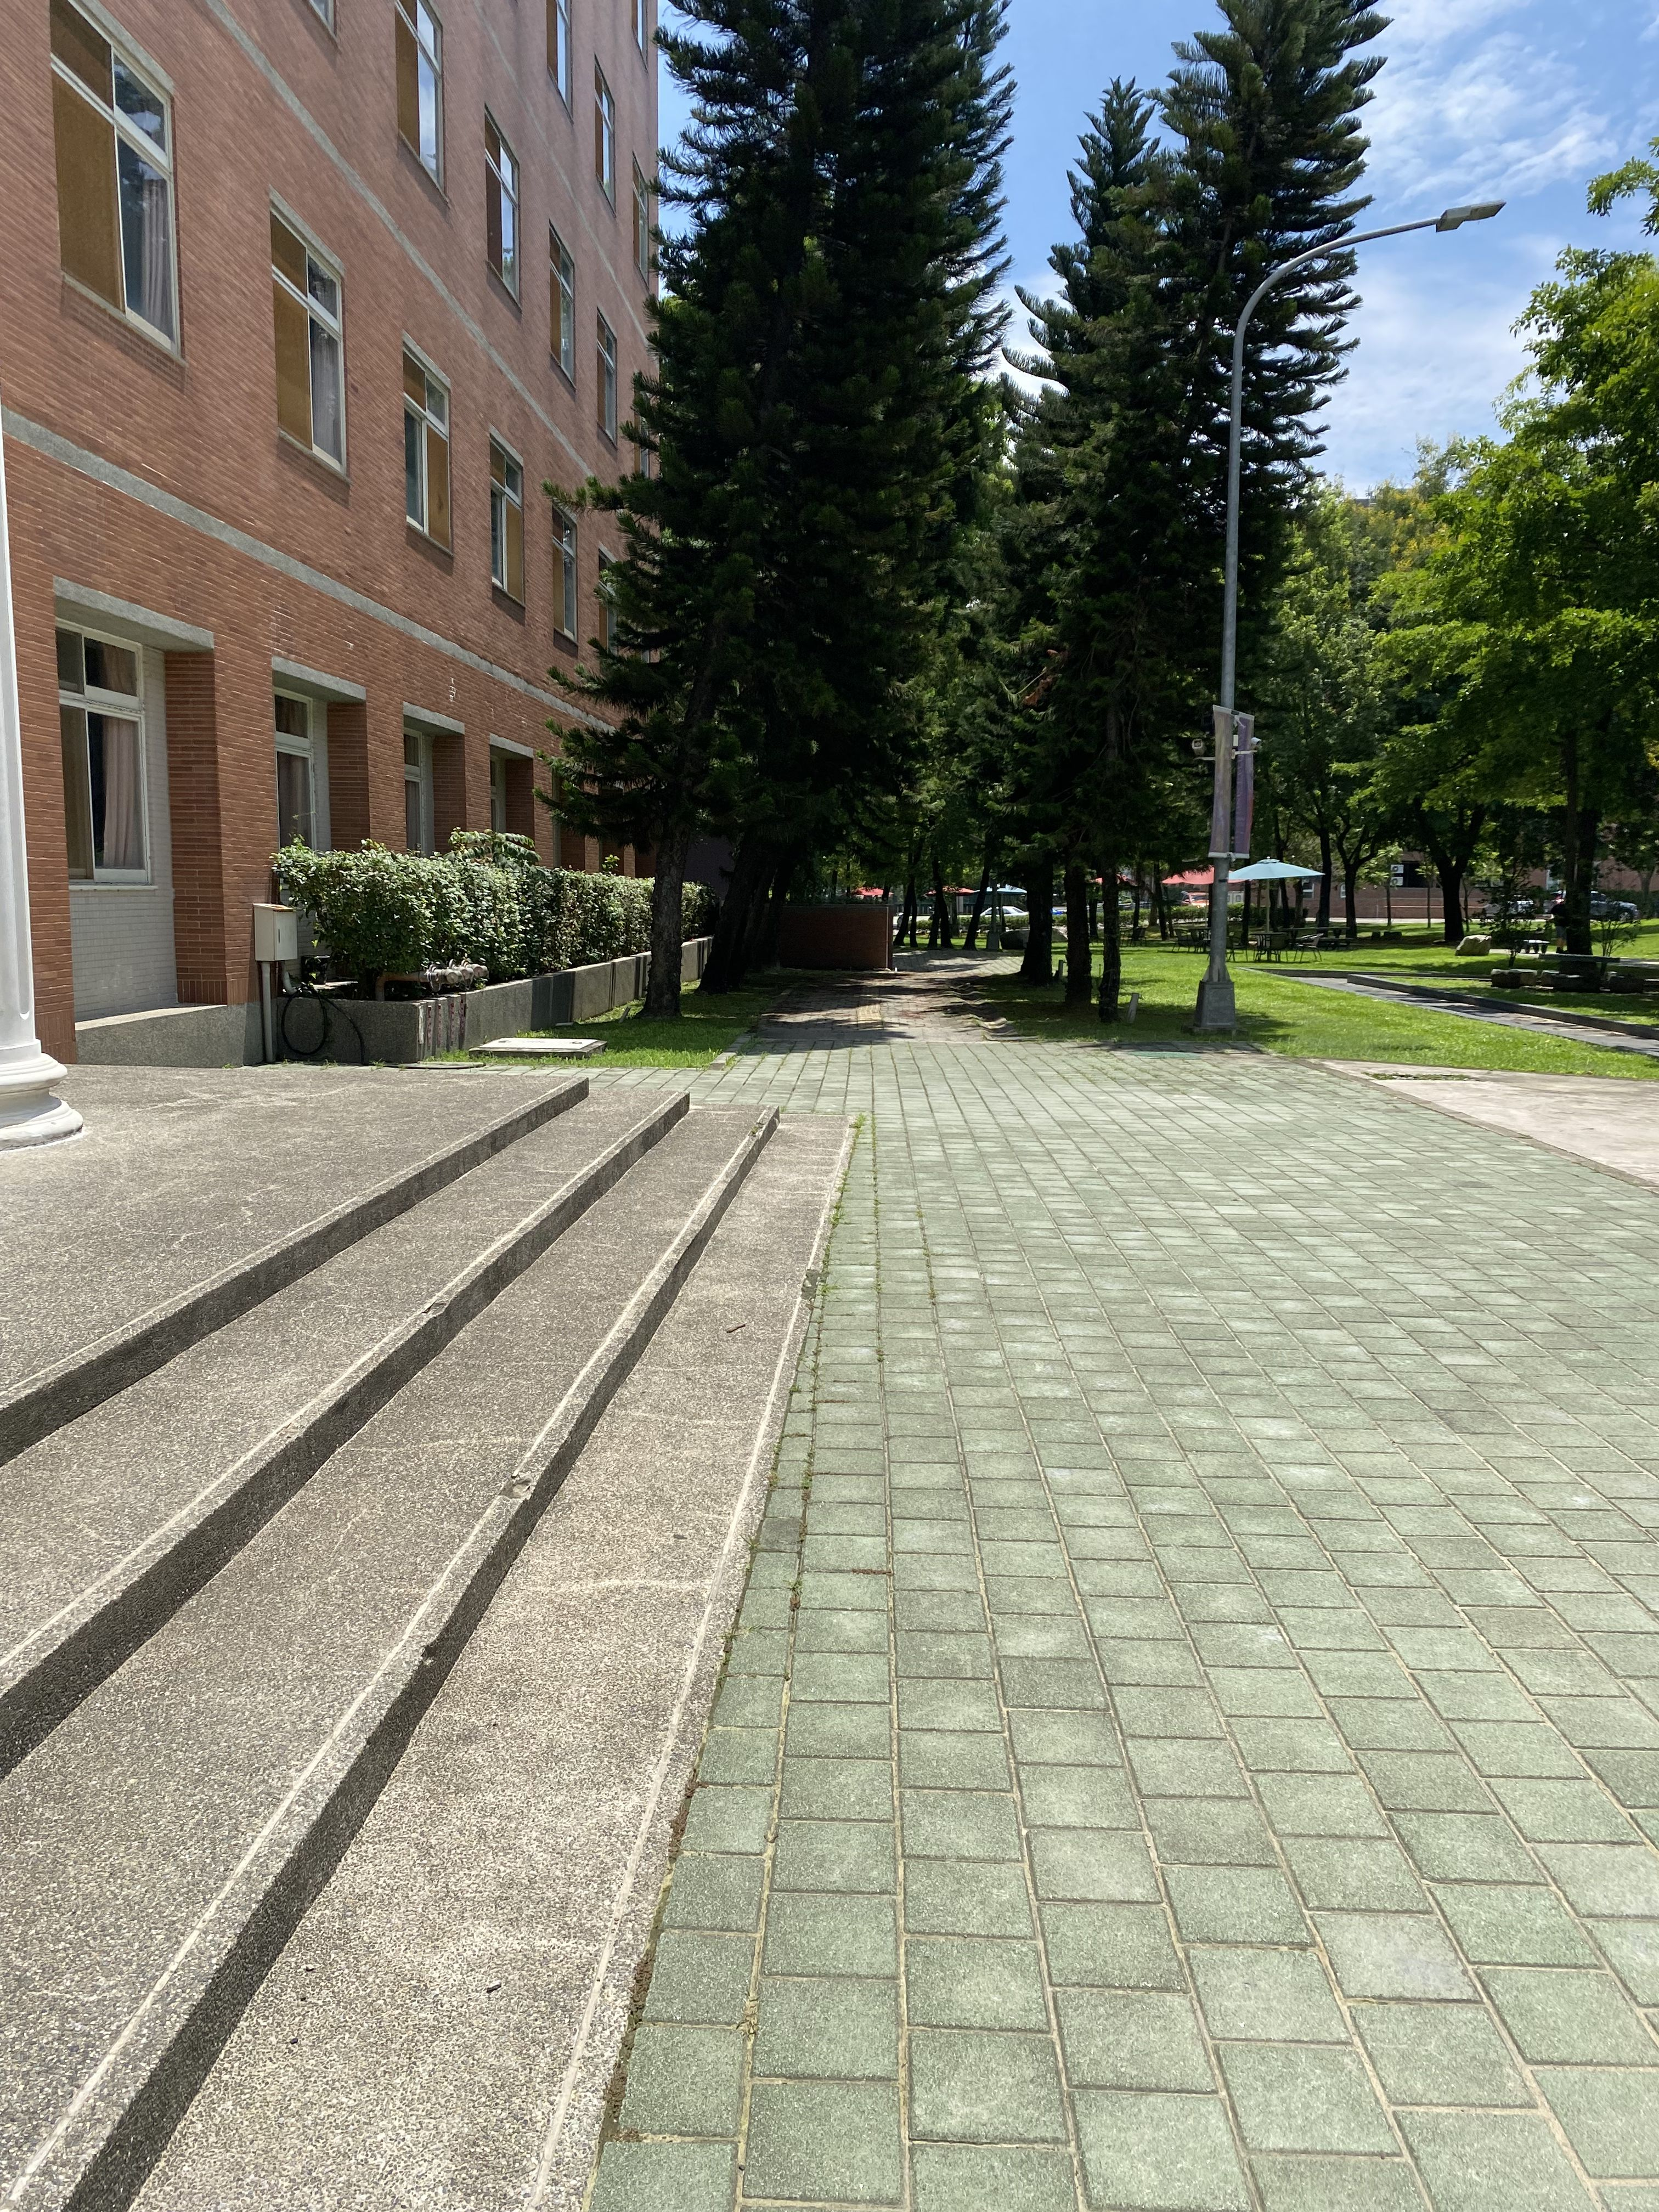sidewalk: (538, 920, 1659, 2212)
